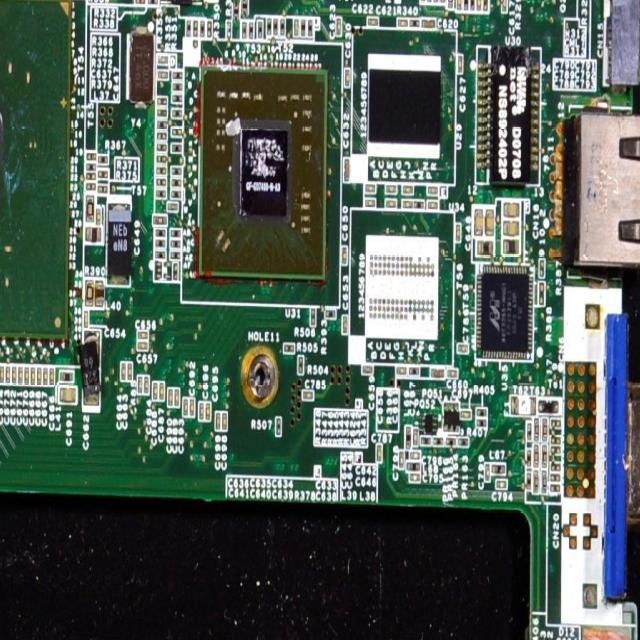IC: (468, 26, 546, 198), (236, 114, 292, 218), (474, 260, 534, 357)
capacitor: (61, 387, 75, 402), (474, 209, 482, 235), (344, 158, 350, 182), (422, 19, 436, 28), (138, 329, 150, 339), (455, 224, 461, 243), (497, 480, 508, 490), (447, 368, 458, 378), (484, 464, 490, 482), (367, 17, 379, 26), (49, 368, 54, 388), (303, 390, 313, 400), (336, 18, 342, 34), (342, 248, 348, 264), (222, 413, 227, 432), (30, 366, 35, 385), (121, 362, 126, 380), (43, 367, 48, 385), (199, 402, 204, 419), (398, 366, 407, 375), (343, 316, 348, 332), (18, 367, 23, 383), (138, 377, 143, 392), (144, 378, 149, 393), (461, 411, 470, 419), (37, 368, 41, 386), (377, 447, 382, 461), (410, 452, 420, 459), (397, 19, 407, 26), (138, 342, 148, 349), (184, 399, 188, 416), (84, 311, 88, 328), (24, 367, 28, 384), (12, 367, 16, 384), (160, 383, 164, 400), (169, 389, 173, 406), (175, 390, 179, 407), (190, 400, 194, 416), (206, 404, 210, 420), (399, 452, 403, 468), (6, 366, 10, 382), (154, 383, 158, 399), (0, 367, 4, 382), (410, 474, 419, 480), (502, 0, 507, 10), (217, 414, 220, 430), (128, 364, 131, 379)
resistor: (284, 342, 296, 353), (299, 356, 304, 377), (476, 409, 487, 418), (98, 156, 108, 165), (86, 163, 96, 172), (86, 172, 96, 181), (476, 418, 487, 426), (324, 310, 335, 318), (276, 419, 281, 436), (86, 153, 96, 161), (98, 170, 108, 178), (86, 182, 96, 190), (410, 20, 419, 28), (135, 0, 145, 4)
